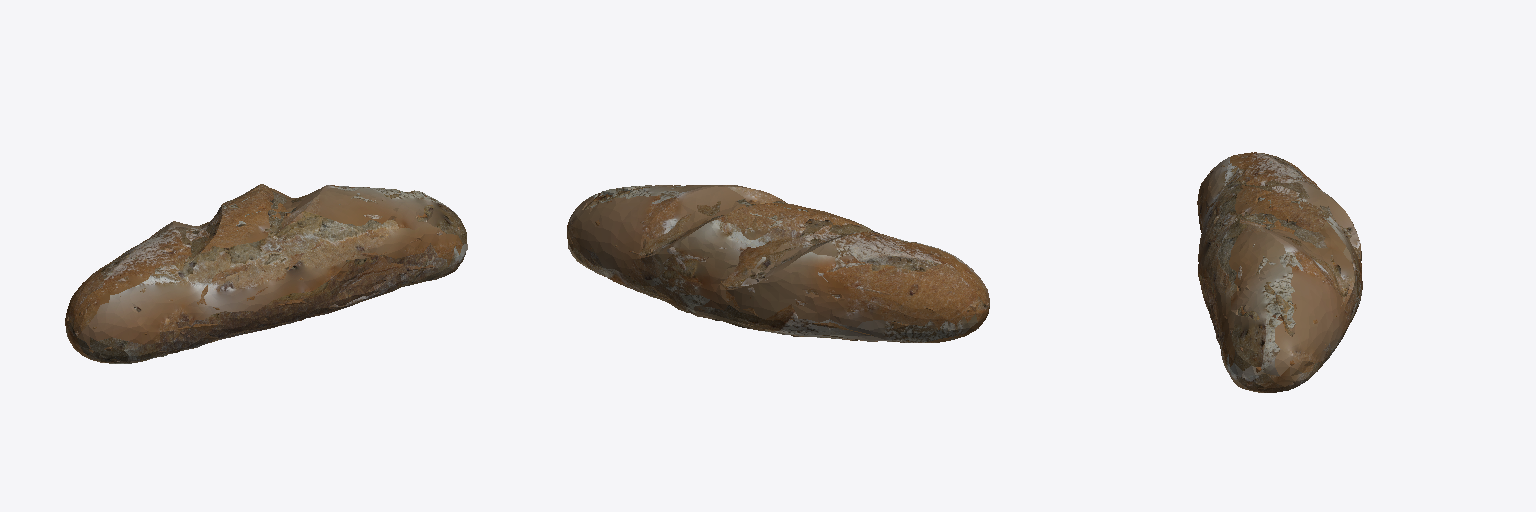
3 renders of one model, left to right at view 1: azimuth 30°, elevation 25°; view 2: azimuth 150°, elevation 25°; view 3: azimuth 270°, elevation 25°, orthographic.
Visible parts, largest first — view 1: 3DBread011_LQ-1K-JPG; view 2: 3DBread011_LQ-1K-JPG; view 3: 3DBread011_LQ-1K-JPG.
Part boxes in pixels (bbox=[...]): 3DBread011_LQ-1K-JPG: bbox=[65, 184, 467, 363]; 3DBread011_LQ-1K-JPG: bbox=[567, 185, 989, 342]; 3DBread011_LQ-1K-JPG: bbox=[1197, 152, 1362, 392].
Size of the model in its own units: 0.1559 by 0.0383 by 0.0557.
1 materials, 1 textured.